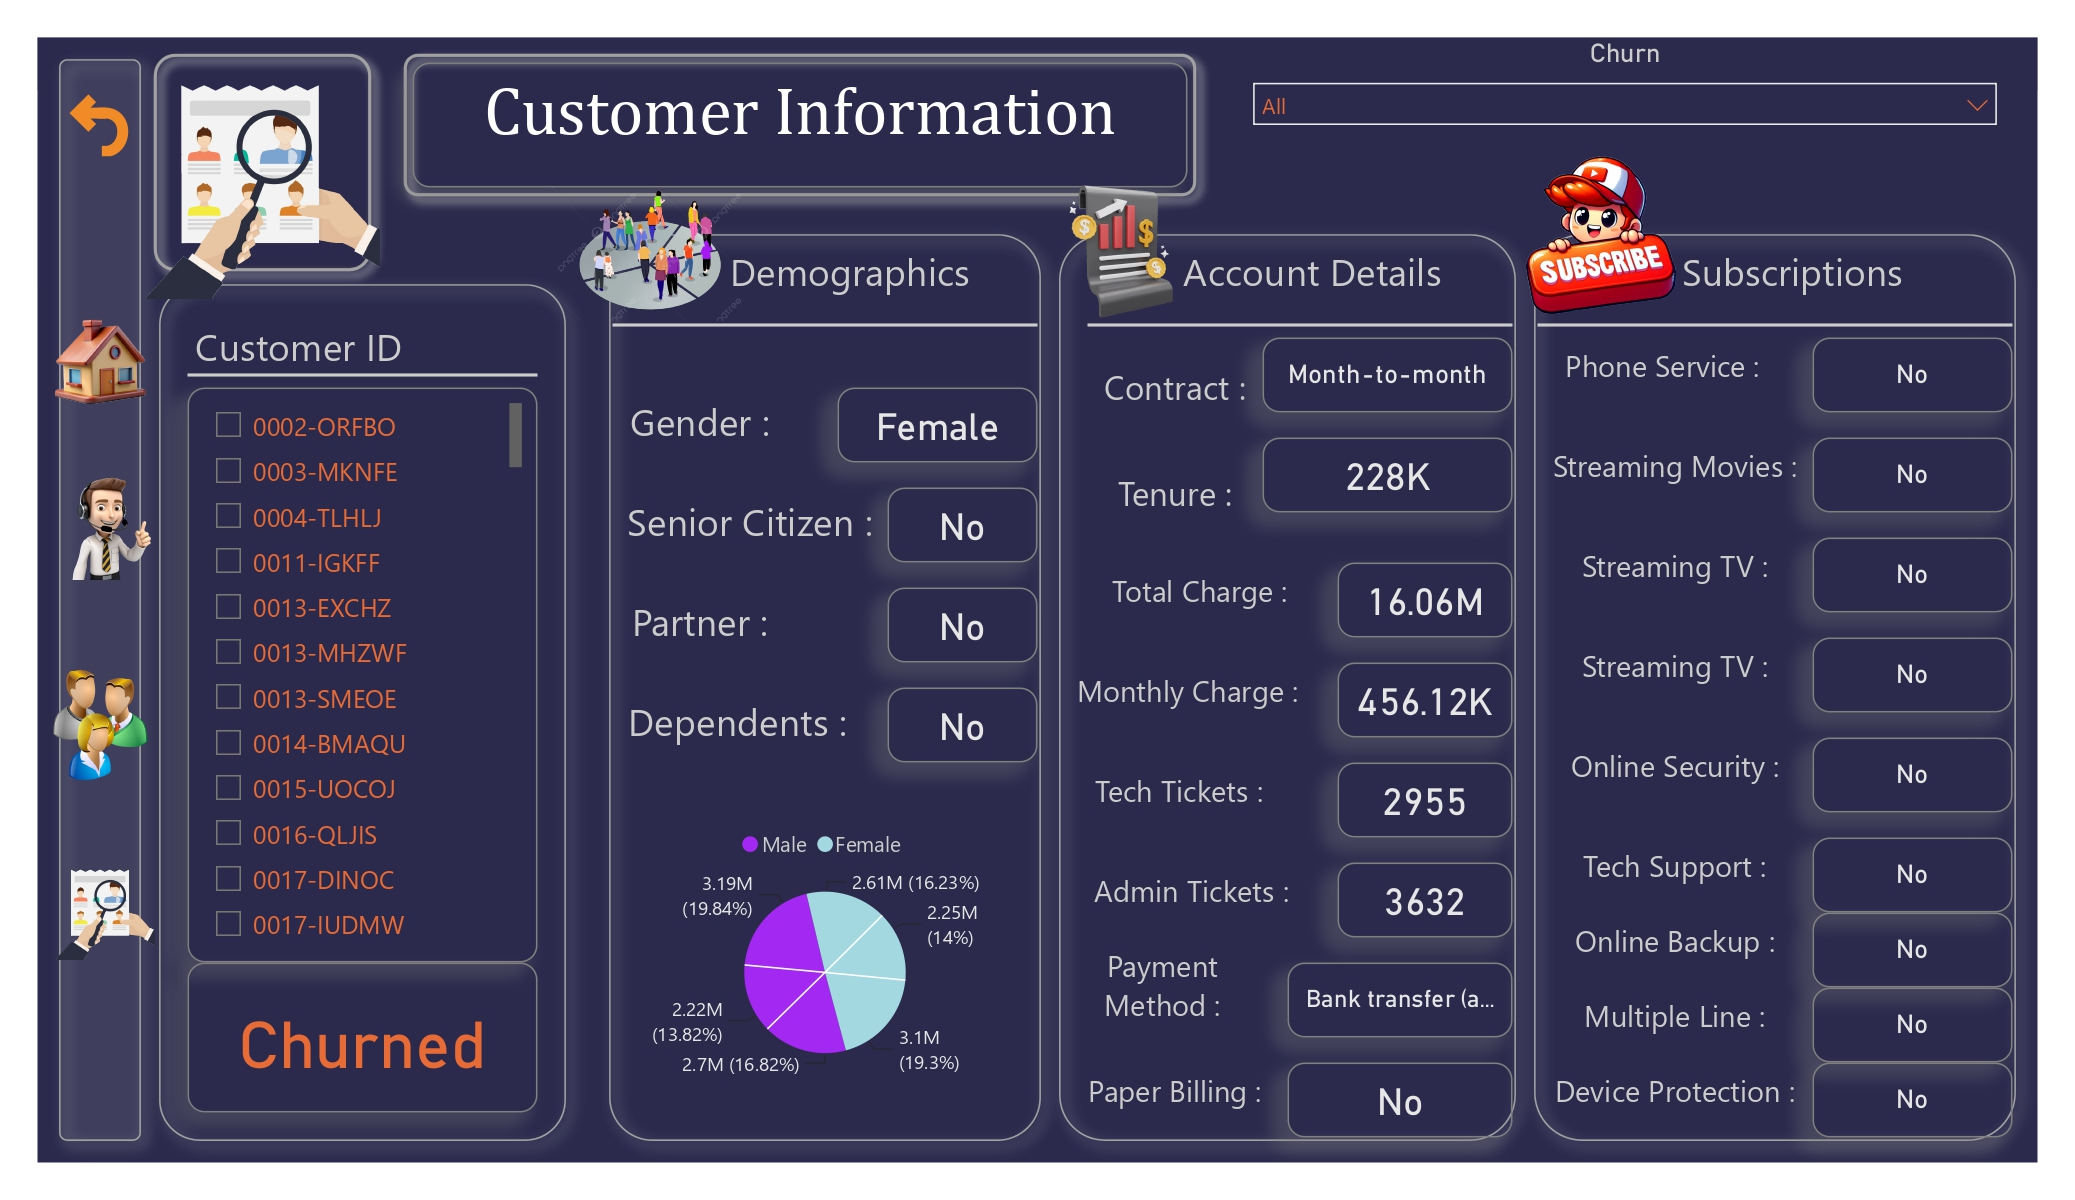

The dashboard page shown, as its layout file describes it:
{"tool":"powerbi","page":{"name":"Customer Information","canvas":[1280,720],"ordinal":3},"visuals":[{"type":"shape","box":[64,144,288,576],"z":0},{"type":"shape","box":[352,112,304,608],"z":1000},{"type":"shape","box":[640,112,320,608],"z":2000},{"type":"shape","box":[944,112,336,608],"z":3000},{"type":"shape","box":[64,0,160,160],"z":4000},{"type":"shape","box":[224,0,528,112],"z":5000},{"type":"shape","box":[96,208,224,16],"z":6000},{"type":"textbox","box":[96,176,224,48],"z":7000},{"type":"textbox","box":[384,128,272,48],"z":8000},{"type":"shape","box":[0,0,80,720],"z":9000},{"type":"actionButton","box":[16,32,48,48],"z":10000},{"type":"card","title":"Payment Method","fields":{"Values":["Min(01 Churn-Dataset.Churned&Retained)"]},"box":[96,592,224,96],"z":11000},{"type":"textbox","box":[240,16,496,80],"z":12000},{"type":"image","box":[0,144,80,128],"z":13000},{"type":"image","box":[0,496,80,128],"z":14000},{"type":"image","box":[0,400,80,80],"z":15000},{"type":"image","box":[0,272,96,80],"z":16000},{"type":"image","box":[48,16,176,160],"z":17000},{"type":"slicer","fields":{"Values":["01 Churn-Dataset.customerID"]},"box":[96,224,224,368],"z":18000},{"type":"shape","box":[368,176,272,16],"z":19000},{"type":"textbox","box":[672,128,288,48],"z":20000},{"type":"textbox","box":[976,128,288,48],"z":21000},{"type":"shape","box":[672,176,272,16],"z":22000},{"type":"shape","box":[960,176,304,16],"z":23000},{"type":"card","fields":{"Values":["Min(01 Churn-Dataset.gender)"]},"box":[512,224,128,48],"z":24000},{"type":"textbox","box":[368,224,112,48],"z":25000},{"type":"textbox","box":[368,288,176,48],"z":26000},{"type":"card","fields":{"Values":["Min(01 Churn-Dataset.Senior Citizen DAX)"]},"box":[544,288,96,48],"z":27000},{"type":"textbox","box":[368,352,112,48],"z":28000},{"type":"card","fields":{"Values":["Min(01 Churn-Dataset.Partner)"]},"box":[544,352,96,48],"z":29000},{"type":"textbox","box":[368,416,160,48],"z":30000},{"type":"card","fields":{"Values":["Min(01 Churn-Dataset.Dependents)"]},"box":[544,416,96,48],"z":31000},{"type":"textbox","box":[672,204,112,48],"z":32000},{"type":"textbox","box":[672,336,144,48],"z":33000},{"type":"textbox","box":[656,400,160,48],"z":34000},{"type":"textbox","box":[656,464,144,48],"z":35000},{"type":"textbox","box":[656,528,160,48],"z":36000},{"type":"textbox","box":[656,576,128,64],"z":37000},{"type":"textbox","box":[656,656,144,48],"z":38000},{"type":"card","fields":{"Values":["Min(01 Churn-Dataset.Contract)"]},"box":[784,192,160,48],"z":39000},{"type":"textbox","box":[672,272,112,48],"z":40000},{"type":"card","fields":{"Values":["Sum(01 Churn-Dataset.tenure)"]},"box":[784,256,160,48],"z":41000},{"type":"card","fields":{"Values":["Sum(01 Churn-Dataset.TotalCharges)"]},"box":[832,336,112,48],"z":42000},{"type":"card","fields":{"Values":["Sum(01 Churn-Dataset.MonthlyCharges)"]},"box":[832,400,112,48],"z":43000},{"type":"card","fields":{"Values":["Sum(01 Churn-Dataset.numTechTickets)"]},"box":[832,464,112,48],"z":44000},{"type":"card","fields":{"Values":["Sum(01 Churn-Dataset.numAdminTickets)"]},"box":[832,528,112,48],"z":45000},{"type":"card","fields":{"Values":["Min(01 Churn-Dataset.PaymentMethod)"]},"box":[800,592,144,48],"z":46000},{"type":"card","fields":{"Values":["Min(01 Churn-Dataset.PaperlessBilling)"]},"box":[800,656,144,48],"z":47000},{"type":"card","fields":{"Values":["Min(01 Churn-Dataset.PhoneService)"]},"box":[1136,192,128,48],"z":48000},{"type":"textbox","box":[960,192,160,48],"z":49000},{"type":"textbox","box":[960,256,176,48],"z":50000},{"type":"card","fields":{"Values":["Min(01 Churn-Dataset.StreamingMovies)"]},"box":[1136,256,128,48],"z":51000},{"type":"textbox","box":[960,320,176,48],"z":52000},{"type":"card","fields":{"Values":["Min(01 Churn-Dataset.StreamingTV)"]},"box":[1136,320,128,48],"z":53000},{"type":"card","fields":{"Values":["Min(01 Churn-Dataset.StreamingMovies)"]},"box":[1136,384,128,48],"z":54000},{"type":"textbox","box":[960,384,176,48],"z":55000},{"type":"textbox","box":[960,448,176,48],"z":56000},{"type":"textbox","box":[960,512,176,48],"z":57000},{"type":"textbox","box":[960,560,176,48],"z":58000},{"type":"textbox","box":[960,608,176,48],"z":59000},{"type":"textbox","box":[960,656,176,48],"z":60000},{"type":"card","fields":{"Values":["Min(01 Churn-Dataset.OnlineSecurity)"]},"box":[1136,448,128,48],"z":61000},{"type":"card","fields":{"Values":["Min(01 Churn-Dataset.TechSupport)"]},"box":[1136,512,128,48],"z":62000},{"type":"card","fields":{"Values":["Min(01 Churn-Dataset.OnlineBackup)"]},"box":[1136,560,128,48],"z":63000},{"type":"card","fields":{"Values":["Min(01 Churn-Dataset.MultipleLines)"]},"box":[1136,608,128,48],"z":64000},{"type":"card","fields":{"Values":["Min(01 Churn-Dataset.DeviceProtection)"]},"box":[1136,656,128,48],"z":65000},{"type":"slicer","title":"Churn","fields":{"Values":["01 Churn-Dataset.Churn"]},"box":[768,0,496,64],"z":66000},{"type":"image","box":[928,64,144,128],"z":67000},{"type":"image","box":[640,64,112,144],"z":68000},{"type":"image","box":[320,64,144,144],"z":69000},{"type":"pieChart","fields":{"Category":["01 Churn-Dataset.gender"],"Y":["Sum(01 Churn-Dataset.TotalCharges)"],"Series":["01 Churn-Dataset.Contract"]},"box":[384,496,240,176],"z":70000}]}

Visuals, with their boxes on the page's 1280x720 design canvas (x1, y1, x2, y2). These are canvas units, not pixel positions in the 2075x1200 screenshot, which may show the page scaled, cropped or inside an application window:
shape: x1=64 y1=144 x2=352 y2=720
shape: x1=352 y1=112 x2=656 y2=720
shape: x1=640 y1=112 x2=960 y2=720
shape: x1=944 y1=112 x2=1280 y2=720
shape: x1=64 y1=0 x2=224 y2=160
shape: x1=224 y1=0 x2=752 y2=112
shape: x1=96 y1=208 x2=320 y2=224
textbox: x1=96 y1=176 x2=320 y2=224
textbox: x1=384 y1=128 x2=656 y2=176
shape: x1=0 y1=0 x2=80 y2=720
actionButton: x1=16 y1=32 x2=64 y2=80
"Payment Method" card: x1=96 y1=592 x2=320 y2=688
textbox: x1=240 y1=16 x2=736 y2=96
image: x1=0 y1=144 x2=80 y2=272
image: x1=0 y1=496 x2=80 y2=624
image: x1=0 y1=400 x2=80 y2=480
image: x1=0 y1=272 x2=96 y2=352
image: x1=48 y1=16 x2=224 y2=176
slicer - 01 Churn-Dataset.customerID: x1=96 y1=224 x2=320 y2=592
shape: x1=368 y1=176 x2=640 y2=192
textbox: x1=672 y1=128 x2=960 y2=176
textbox: x1=976 y1=128 x2=1264 y2=176
shape: x1=672 y1=176 x2=944 y2=192
shape: x1=960 y1=176 x2=1264 y2=192
card - Min(01 Churn-Dataset.gender): x1=512 y1=224 x2=640 y2=272
textbox: x1=368 y1=224 x2=480 y2=272
textbox: x1=368 y1=288 x2=544 y2=336
card - Min(01 Churn-Dataset.Senior Citizen DAX): x1=544 y1=288 x2=640 y2=336
textbox: x1=368 y1=352 x2=480 y2=400
card - Min(01 Churn-Dataset.Partner): x1=544 y1=352 x2=640 y2=400
textbox: x1=368 y1=416 x2=528 y2=464
card - Min(01 Churn-Dataset.Dependents): x1=544 y1=416 x2=640 y2=464
textbox: x1=672 y1=204 x2=784 y2=252
textbox: x1=672 y1=336 x2=816 y2=384
textbox: x1=656 y1=400 x2=816 y2=448
textbox: x1=656 y1=464 x2=800 y2=512
textbox: x1=656 y1=528 x2=816 y2=576
textbox: x1=656 y1=576 x2=784 y2=640
textbox: x1=656 y1=656 x2=800 y2=704
card - Min(01 Churn-Dataset.Contract): x1=784 y1=192 x2=944 y2=240
textbox: x1=672 y1=272 x2=784 y2=320
card - Sum(01 Churn-Dataset.tenure): x1=784 y1=256 x2=944 y2=304
card - Sum(01 Churn-Dataset.TotalCharges): x1=832 y1=336 x2=944 y2=384
card - Sum(01 Churn-Dataset.MonthlyCharges): x1=832 y1=400 x2=944 y2=448
card - Sum(01 Churn-Dataset.numTechTickets): x1=832 y1=464 x2=944 y2=512
card - Sum(01 Churn-Dataset.numAdminTickets): x1=832 y1=528 x2=944 y2=576
card - Min(01 Churn-Dataset.PaymentMethod): x1=800 y1=592 x2=944 y2=640
card - Min(01 Churn-Dataset.PaperlessBilling): x1=800 y1=656 x2=944 y2=704
card - Min(01 Churn-Dataset.PhoneService): x1=1136 y1=192 x2=1264 y2=240
textbox: x1=960 y1=192 x2=1120 y2=240
textbox: x1=960 y1=256 x2=1136 y2=304
card - Min(01 Churn-Dataset.StreamingMovies): x1=1136 y1=256 x2=1264 y2=304
textbox: x1=960 y1=320 x2=1136 y2=368
card - Min(01 Churn-Dataset.StreamingTV): x1=1136 y1=320 x2=1264 y2=368
card - Min(01 Churn-Dataset.StreamingMovies): x1=1136 y1=384 x2=1264 y2=432
textbox: x1=960 y1=384 x2=1136 y2=432
textbox: x1=960 y1=448 x2=1136 y2=496
textbox: x1=960 y1=512 x2=1136 y2=560
textbox: x1=960 y1=560 x2=1136 y2=608
textbox: x1=960 y1=608 x2=1136 y2=656
textbox: x1=960 y1=656 x2=1136 y2=704
card - Min(01 Churn-Dataset.OnlineSecurity): x1=1136 y1=448 x2=1264 y2=496
card - Min(01 Churn-Dataset.TechSupport): x1=1136 y1=512 x2=1264 y2=560
card - Min(01 Churn-Dataset.OnlineBackup): x1=1136 y1=560 x2=1264 y2=608
card - Min(01 Churn-Dataset.MultipleLines): x1=1136 y1=608 x2=1264 y2=656
card - Min(01 Churn-Dataset.DeviceProtection): x1=1136 y1=656 x2=1264 y2=704
"Churn" slicer: x1=768 y1=0 x2=1264 y2=64
image: x1=928 y1=64 x2=1072 y2=192
image: x1=640 y1=64 x2=752 y2=208
image: x1=320 y1=64 x2=464 y2=208
pieChart - 01 Churn-Dataset.gender x Sum(01 Churn-Dataset.TotalCharges): x1=384 y1=496 x2=624 y2=672
